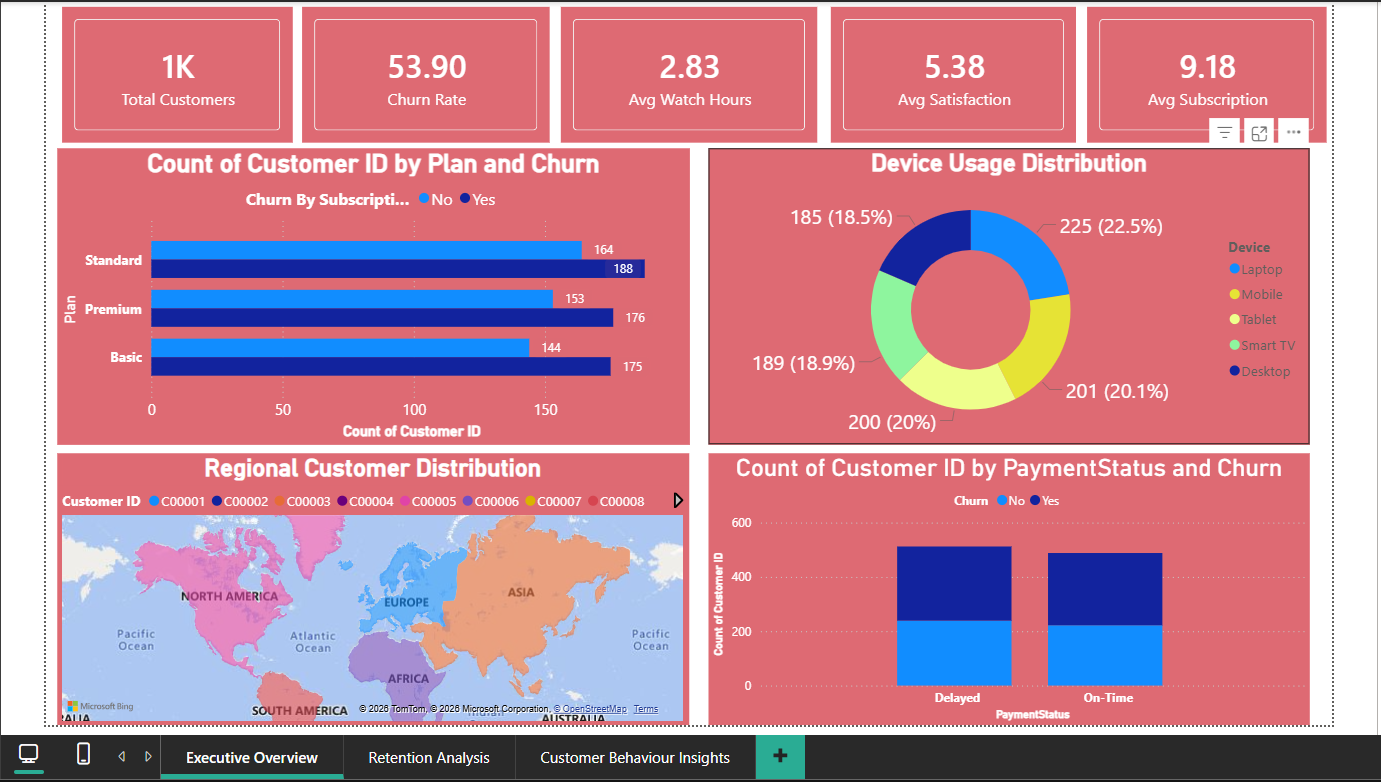

The dashboard page shown, as its layout file describes it:
{"tool":"powerbi","page":{"name":"Executive Overview","canvas":[1280,720],"ordinal":0},"visuals":[{"type":"cardVisual","fields":{"Data":["Sheet1.Total Customers"]},"box":[10.7,0,239.6,145.5],"z":0},{"type":"cardVisual","fields":{"Data":["Sheet1.Churn Rate"]},"box":[250.3,0,256.7,145.5],"z":1000},{"type":"cardVisual","fields":{"Data":["Sheet1.Avg Watch Hours"]},"box":[507,0,265.2,145.5],"z":2000},{"type":"cardVisual","fields":{"Data":["Sheet1.Avg Subscription"]},"box":[1031,0,248.1,145.5],"z":3000},{"type":"cardVisual","fields":{"Data":["Sheet1.Avg Satisfaction"]},"box":[776.5,0,254.5,145.5],"z":4000},{"type":"clusteredBarChart","fields":{"Series":["Sheet1.Churn"],"Category":["Sheet1.Plan"],"Y":["CountNonNull(Sheet1.Customer ID)"]},"box":[11.2,145.5,629.4,294.8],"z":5000},{"type":"donutChart","title":"Device Usage Distribution","fields":{"Category":["Sheet1.Device"],"Y":["CountNonNull(Sheet1.Customer ID)"]},"box":[659.3,145.5,598.3,294.8],"z":6000},{"type":"filledMap","title":"Regional Customer Distribution","fields":{"Category":["Sheet1.Region"],"Series":["Sheet1.Customer ID"]},"box":[11.2,449.1,628.2,271.2],"z":7000},{"type":"columnChart","fields":{"Category":["Sheet1.PaymentStatus"],"Y":["CountNonNull(Sheet1.Customer ID)"],"Series":["Sheet1.Churn"]},"box":[659.3,449.1,598.3,271.2],"z":8000}]}

Visuals, with their boxes in screenshot pixels (x1, y1, x2, y2):
cardVisual - Sheet1.Total Customers: {"x1": 43, "y1": 0, "x2": 289, "y2": 139}
cardVisual - Sheet1.Churn Rate: {"x1": 289, "y1": 0, "x2": 553, "y2": 139}
cardVisual - Sheet1.Avg Watch Hours: {"x1": 553, "y1": 0, "x2": 825, "y2": 139}
cardVisual - Sheet1.Avg Subscription: {"x1": 1090, "y1": 0, "x2": 1345, "y2": 139}
cardVisual - Sheet1.Avg Satisfaction: {"x1": 829, "y1": 0, "x2": 1090, "y2": 139}
clusteredBarChart - Sheet1.Churn x Sheet1.Plan: {"x1": 44, "y1": 139, "x2": 690, "y2": 441}
"Device Usage Distribution" donutChart: {"x1": 709, "y1": 139, "x2": 1323, "y2": 441}
"Regional Customer Distribution" filledMap: {"x1": 44, "y1": 450, "x2": 689, "y2": 728}
columnChart - Sheet1.PaymentStatus x CountNonNull(Sheet1.Customer ID): {"x1": 709, "y1": 450, "x2": 1323, "y2": 728}
